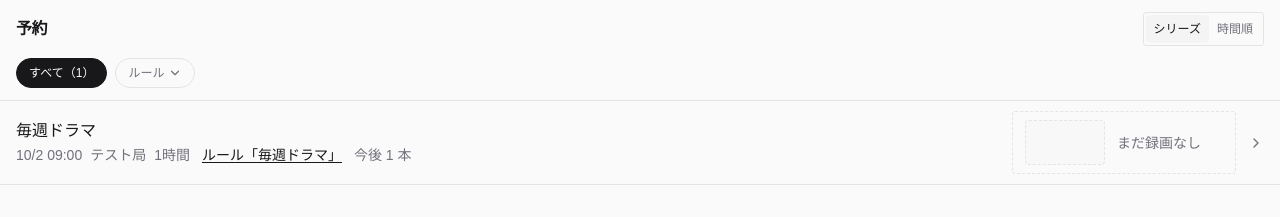
予約一覧のシリーズ表示 › 時間順へ切り替えると URL を変えず localStorage に保存する
The width and height of the screenshot is (1280, 217).
Click the button "時間順". click: (1235, 29)
box: [1209,15,1261,43]
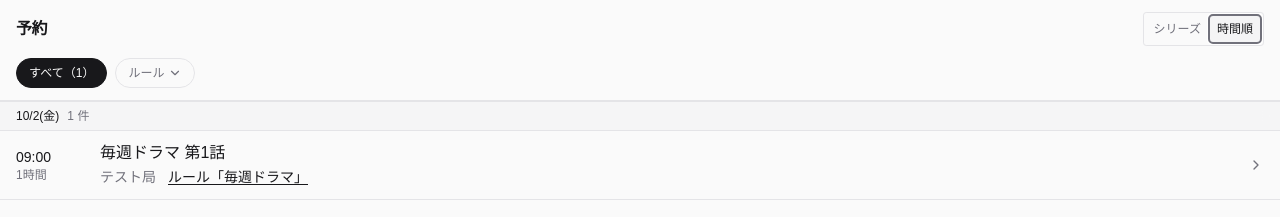
Now the list item with test id "reservation-series-row" is gone
